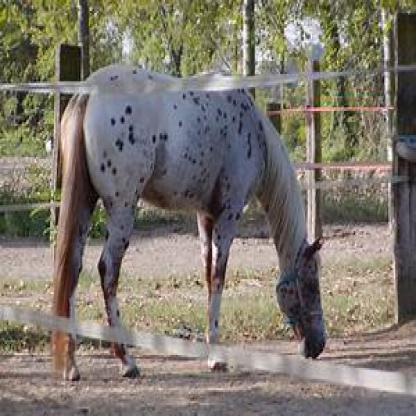horse: (50, 57, 326, 385)
